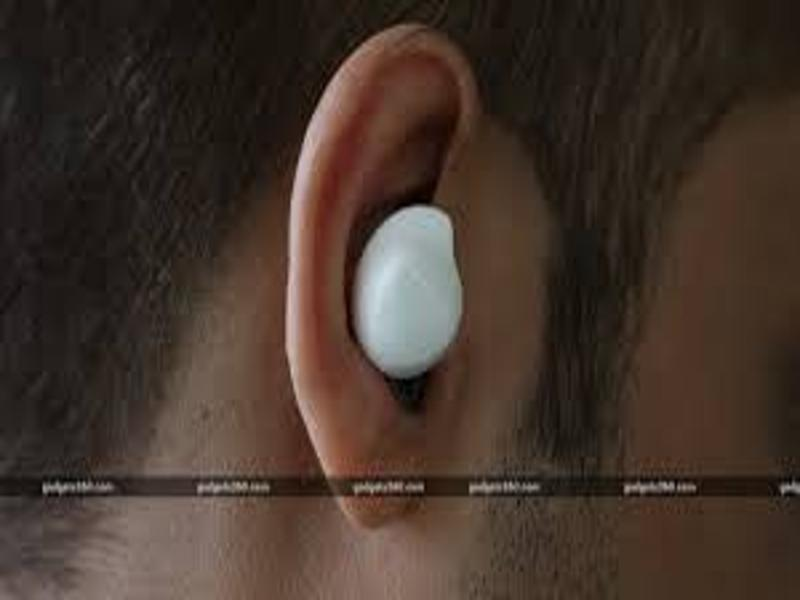headphone: (348, 203, 467, 382)
